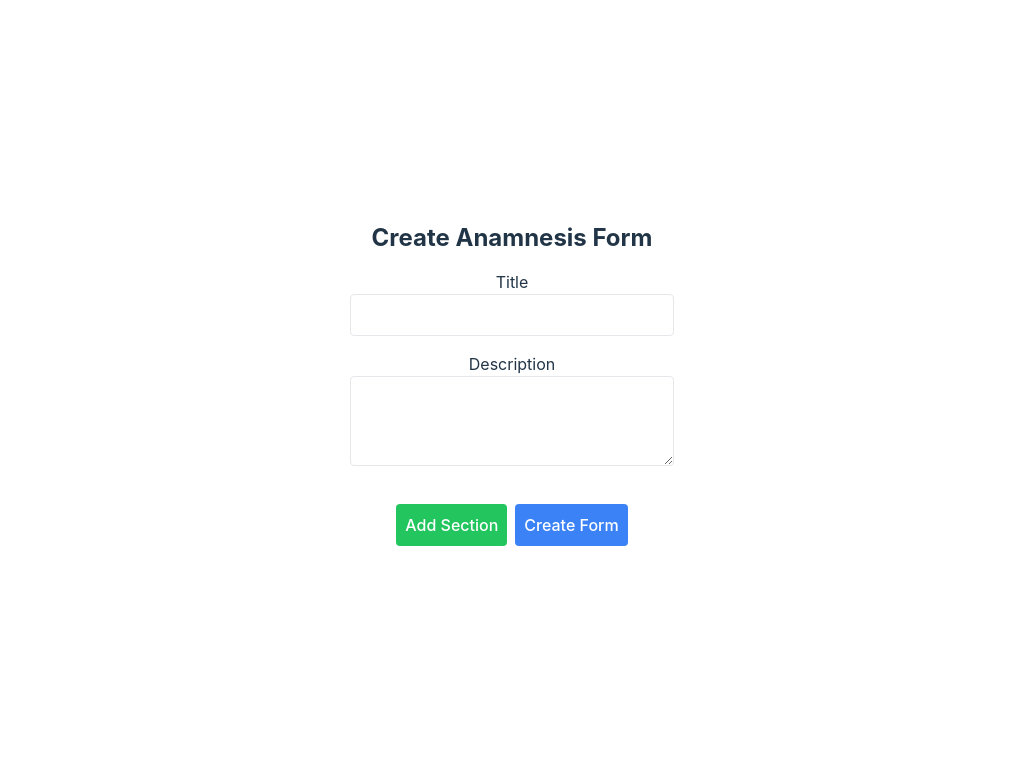
CreateAnamnesisForm › prevents form submission with empty description
Type "Test Form" into the field labelled "Title".
click(512, 315); type("Test Form")  # box [350, 294, 674, 336]
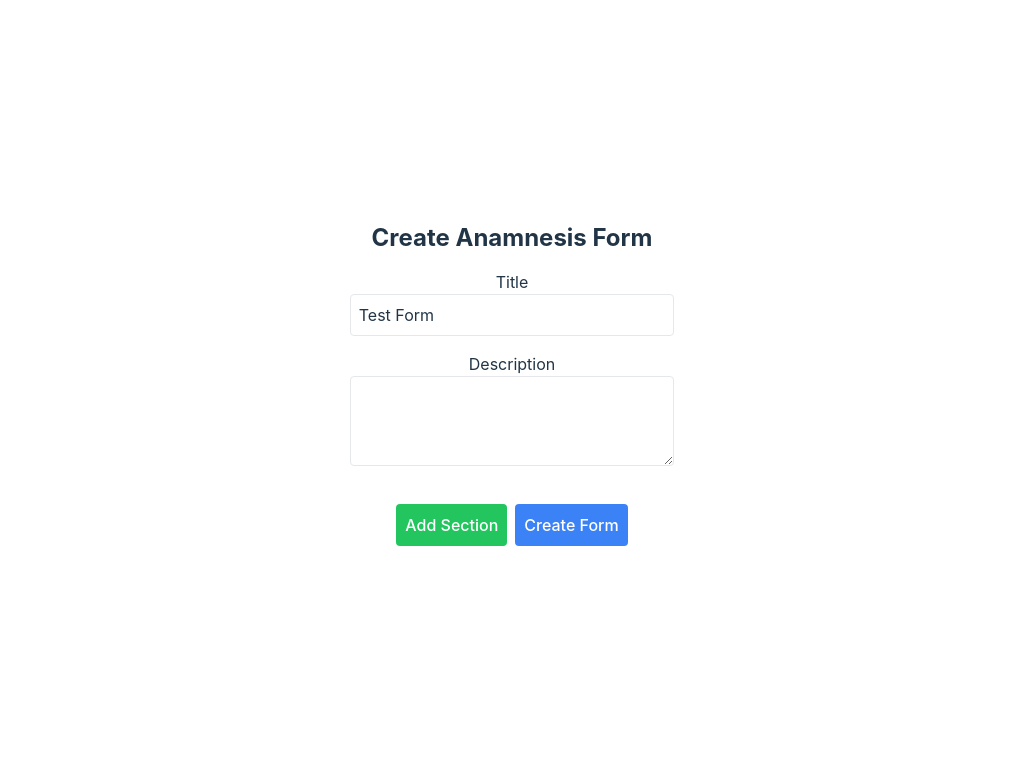
Click the button "Add Section".
click(452, 525)  # box [396, 504, 507, 546]
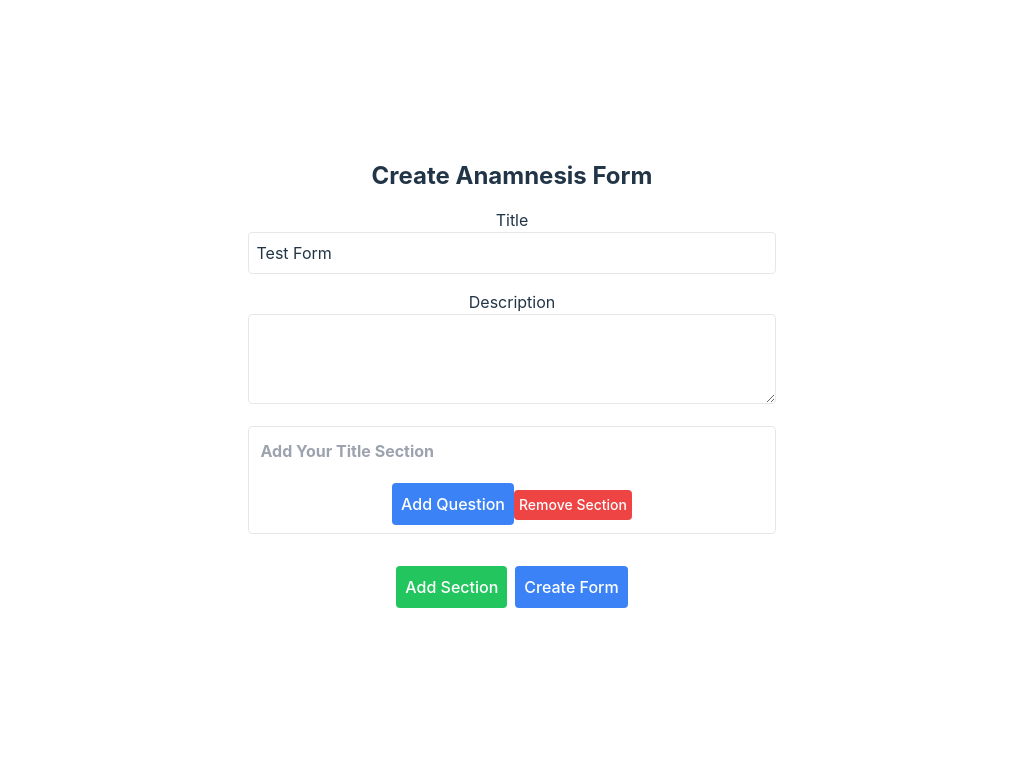
Click the button "Add Question".
click(453, 504)  # box [392, 483, 514, 525]
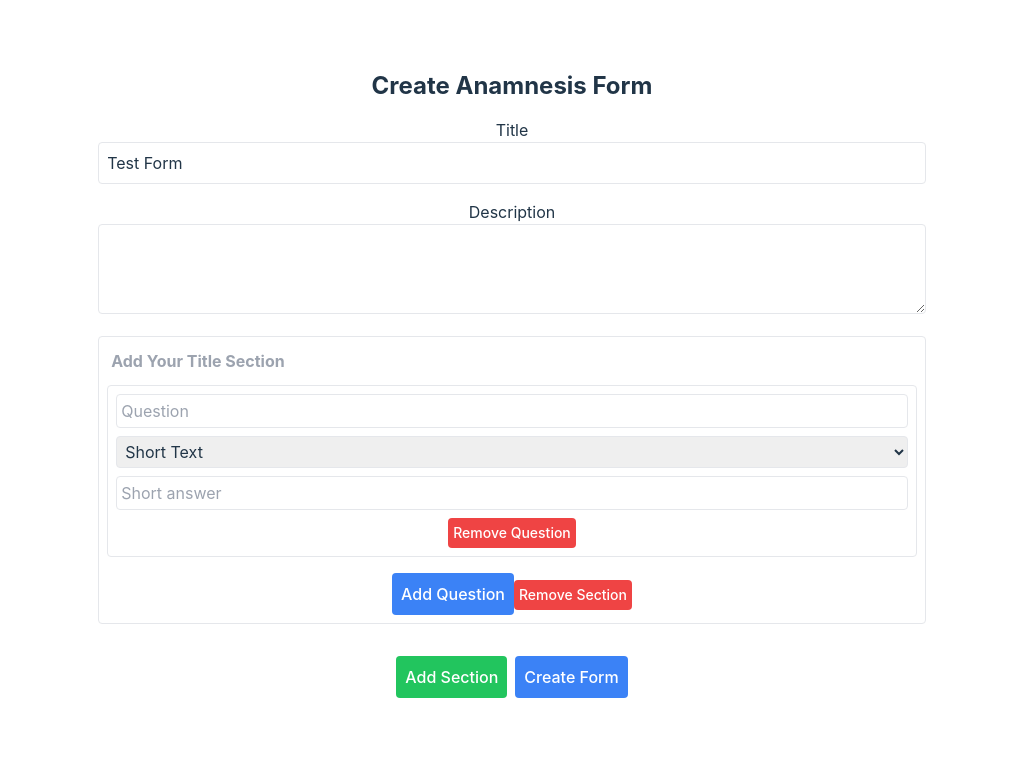
Click the button "Create Form".
click(571, 677)  # box [515, 656, 628, 698]
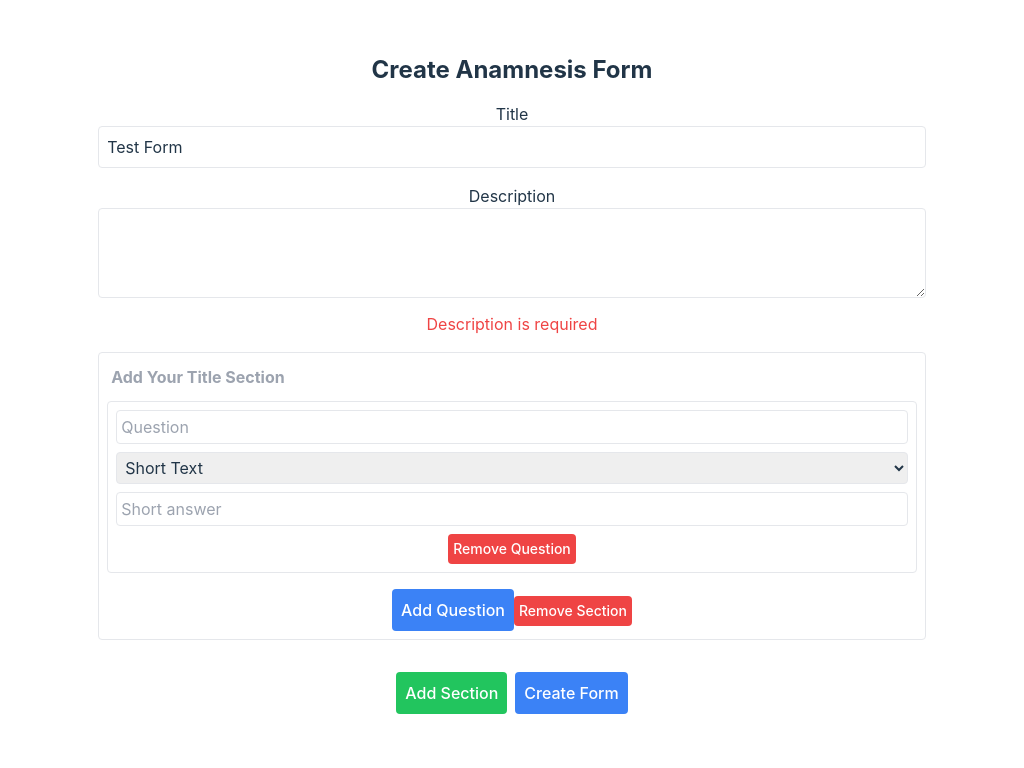
expect the text "Description is required" is shown: met, box [426, 314, 597, 334]
